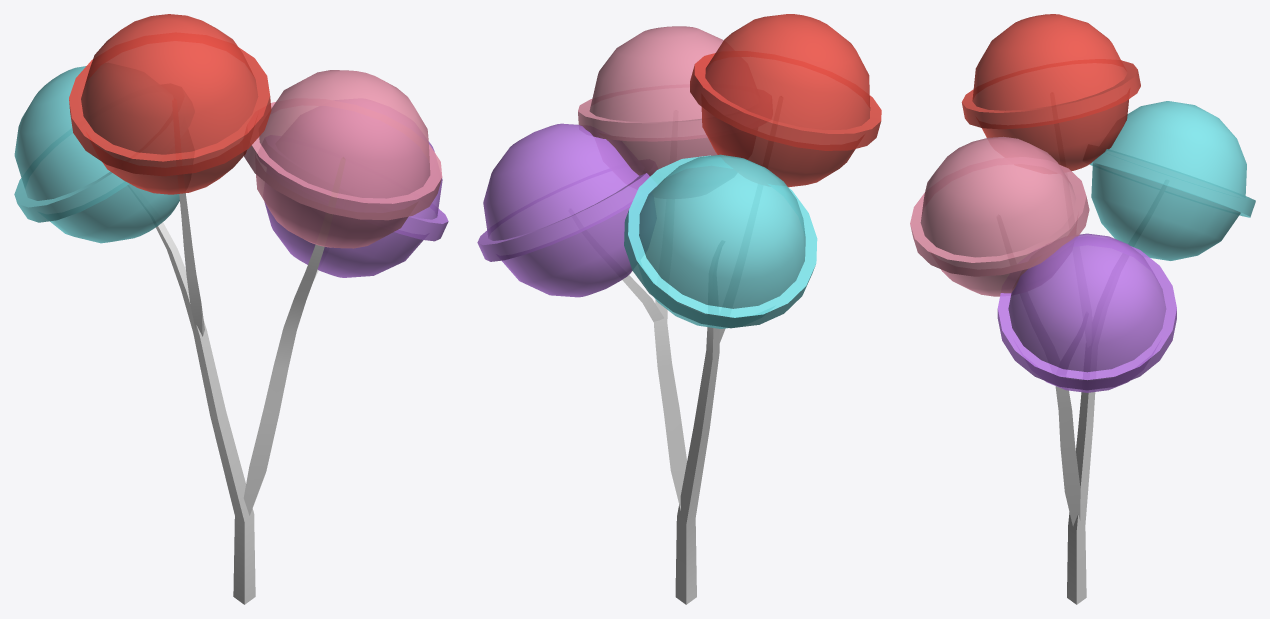
File: lollipop-tree-1.glb
3 views of the same model, side by side, from view 1: azimuth 30°, elevation 25°; view 2: azimuth 150°, elevation 25°; view 3: azimuth 270°, elevation 25° (orthographic). The views are drawn at different scales.
Visible parts, largest first — view 1: tree; view 2: tree; view 3: tree.
Part boxes in pixels (<box>): tree: <box>14,14,448,604</box>; tree: <box>477,14,881,604</box>; tree: <box>910,14,1255,604</box>.
Size of what is drawn, in the model's own units: 3.67 by 5.75 by 3.34.
